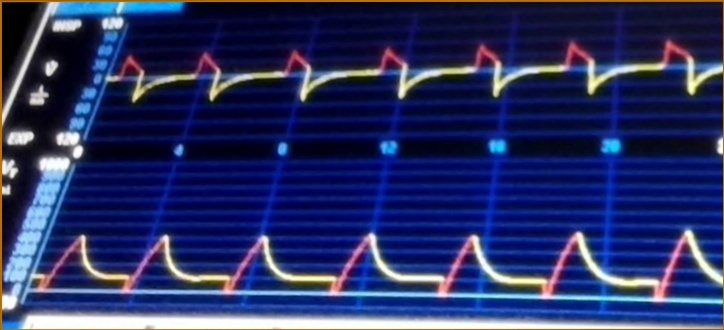Flow: (117, 27, 723, 128)
Leakage Volume: (52, 205, 724, 313)
